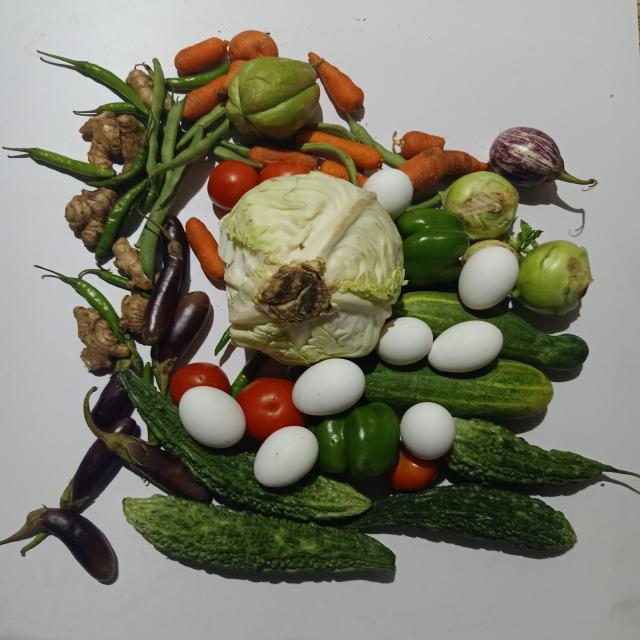Bitter Gourd: (121, 371, 371, 522), (123, 495, 396, 574), (344, 484, 578, 552), (447, 418, 640, 486)
Brinjal: (83, 391, 210, 502), (0, 508, 117, 585), (154, 291, 210, 394), (141, 239, 183, 345), (59, 440, 118, 510), (106, 418, 135, 436)
Cabbage: (218, 171, 406, 365)
Capsicum: (315, 403, 400, 478), (396, 208, 470, 286)
Carrot: (296, 130, 383, 169), (315, 60, 364, 112), (185, 217, 224, 280), (174, 36, 227, 76), (308, 51, 322, 62)
Chayote: (226, 56, 320, 138)
Cucumber: (392, 291, 590, 370), (354, 353, 554, 419)
Egg: (292, 359, 365, 416), (179, 386, 246, 448), (253, 426, 319, 488), (428, 321, 504, 373), (459, 246, 520, 310), (400, 402, 456, 461), (375, 317, 434, 365), (363, 168, 414, 220)
Eggplant: (490, 127, 598, 188)
Ginger: (72, 307, 129, 370)
Green Chilly: (36, 50, 149, 115), (33, 265, 124, 344), (95, 178, 147, 262), (2, 146, 115, 179)
Tomato: (236, 378, 305, 441), (207, 160, 258, 211)
Turnip: (511, 240, 594, 315), (442, 171, 520, 240)
